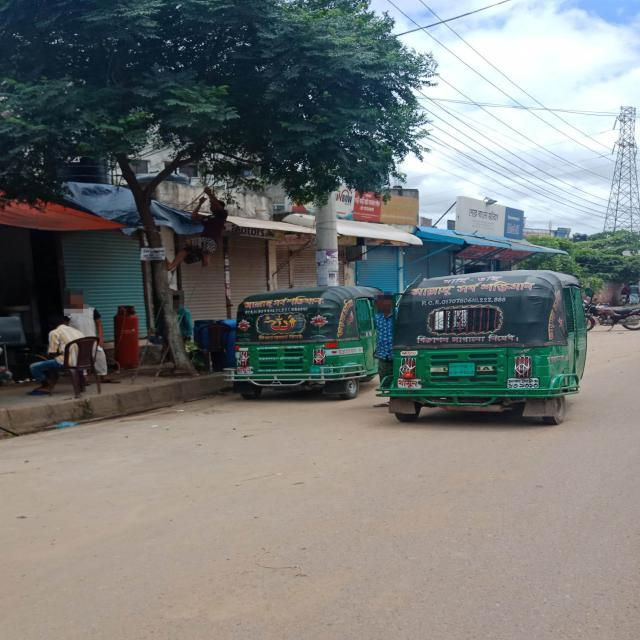CNG: (395, 265, 597, 436), (223, 275, 396, 417)
